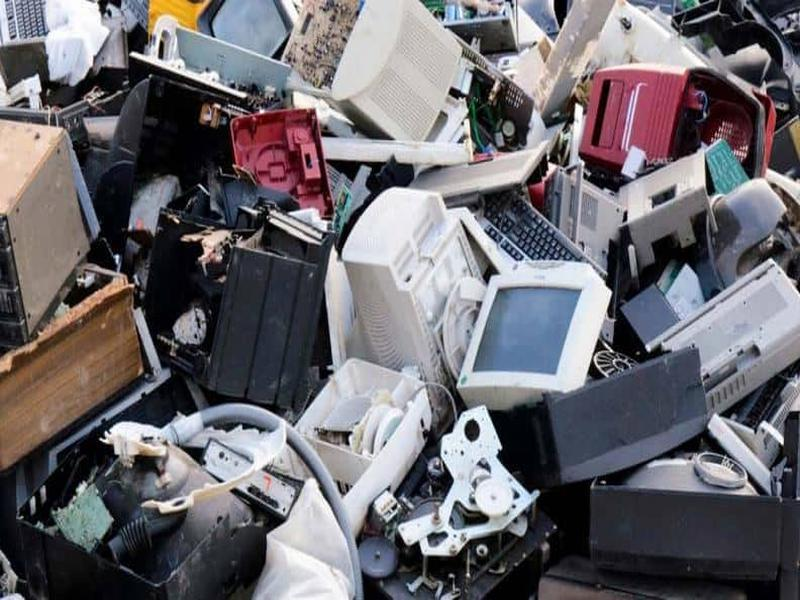keyboard: (459, 194, 618, 278)
tv_pc: (452, 263, 614, 414)
